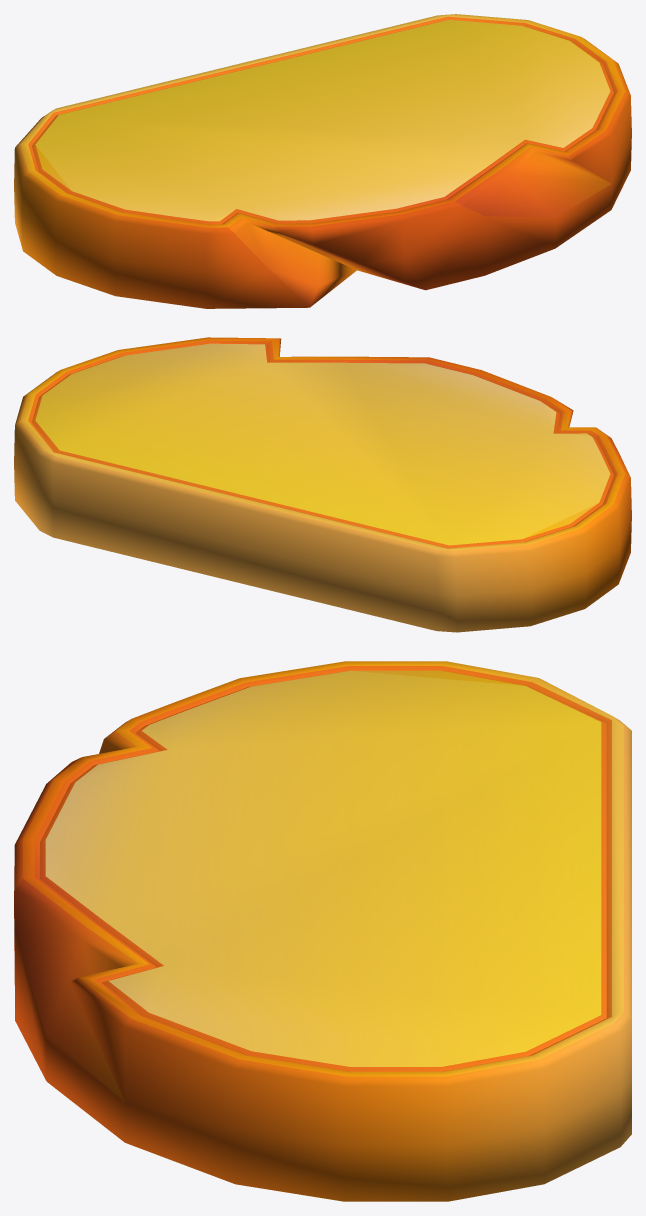
File: sandwich_004.fbx
3 renders of one model, top to bottom at view 1: azimuth 30°, elevation 25°; view 2: azimuth 150°, elevation 25°; view 3: azimuth 270°, elevation 25°, orthographic. The views are drawn at different scales.
Parts seen in each view (by area): view 1: sandwich_004; view 2: sandwich_004; view 3: sandwich_004.
Part boxes in pixels (bbox=[...]): sandwich_004: bbox=[14, 14, 631, 308]; sandwich_004: bbox=[14, 337, 631, 632]; sandwich_004: bbox=[14, 661, 631, 1201].
Size of the model in its own units: 14.33 by 8.83 by 1.92.
